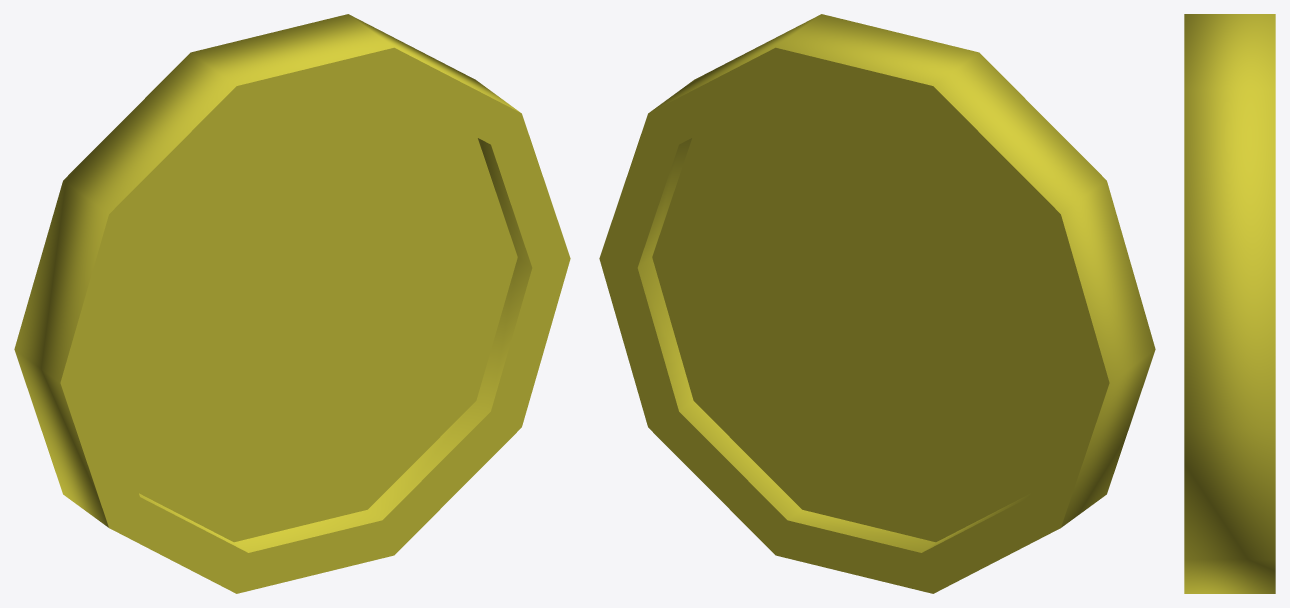
Rendered from props coin.fbx.
The picture shows the model from 3 angles, left to right: view 1: azimuth 30°, elevation 25°; view 2: azimuth 150°, elevation 25°; view 3: azimuth 270°, elevation 25°; orthographic projection.
Parts seen in each view (by area): view 1: coins; view 2: coins; view 3: coins.
Part boxes in pixels (x1,y1,x2,y2): coins: [14, 14, 570, 593]; coins: [599, 14, 1155, 593]; coins: [1184, 14, 1275, 593].
Bounding box in the file's own units: 0.5632 × 0.5356 × 0.0879.
